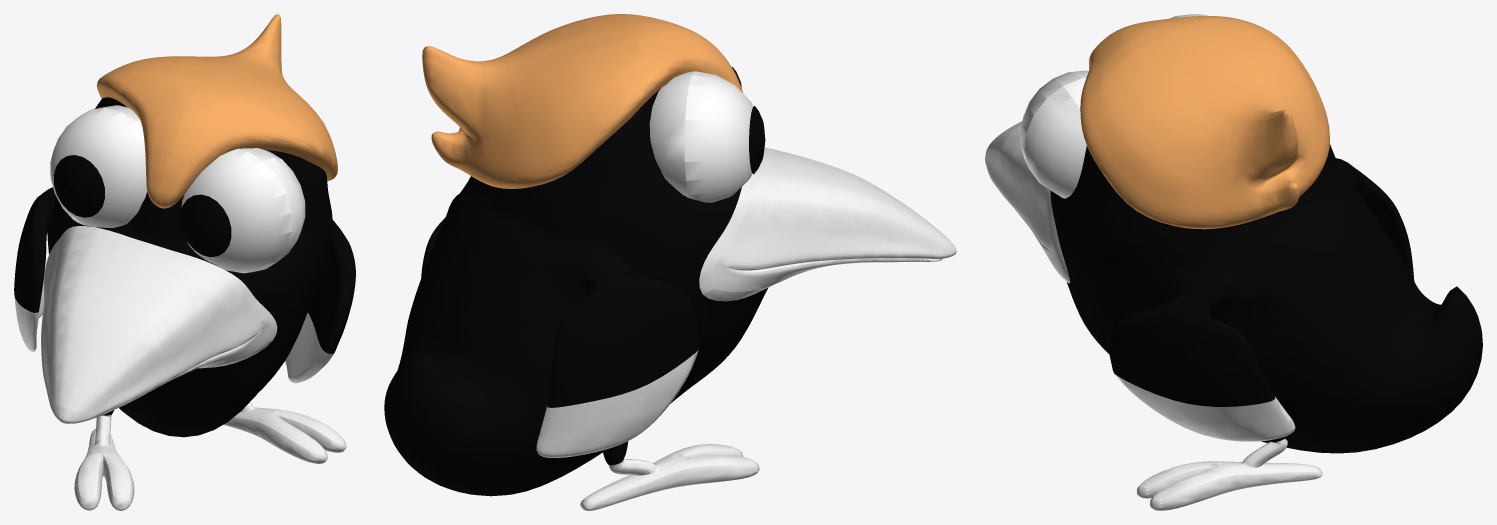
The picture shows the model from 3 angles, left to right: view 1: azimuth 30°, elevation 25°; view 2: azimuth 150°, elevation 25°; view 3: azimuth 270°, elevation 25°; orthographic projection. The views are drawn at different scales.
Parts seen in each view (by area): view 1: 3DSMeshMatrix; view 2: 3DSMeshMatrix; view 3: 3DSMeshMatrix.
Boxes of the visible parts, x1,y1,x2,y2 form: 3DSMeshMatrix: (14, 14, 355, 510); 3DSMeshMatrix: (384, 14, 956, 510); 3DSMeshMatrix: (985, 14, 1482, 510).
Size of the model in its own units: 33.02 by 33.11 by 36.11.
